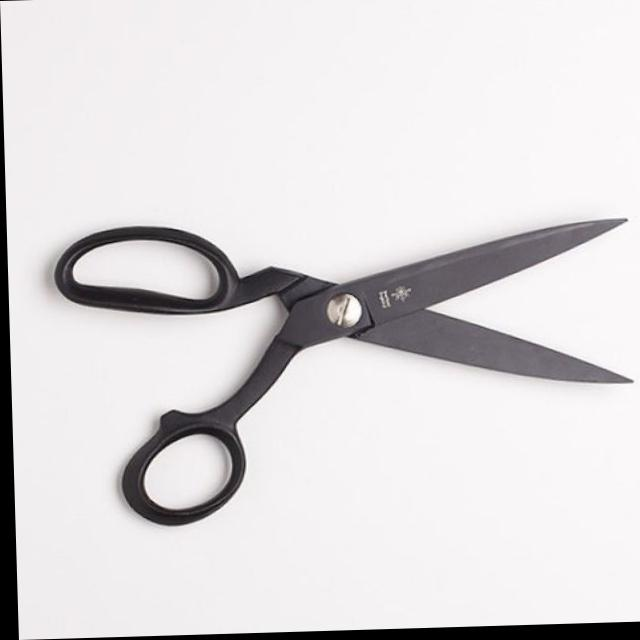scissor: (41, 181, 640, 543)
